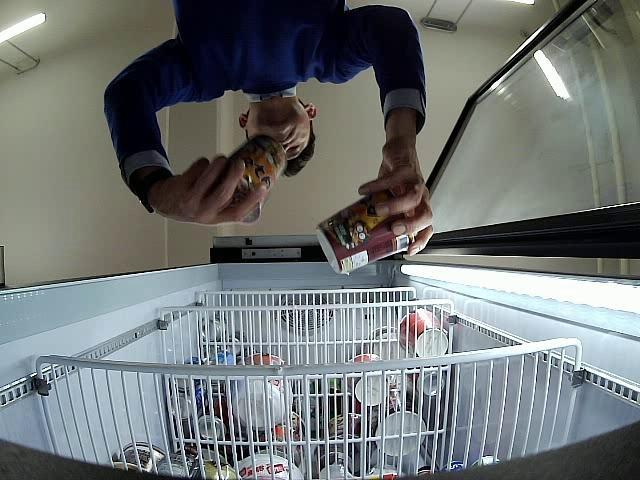06_nuguri_S: (316, 189, 414, 274), (227, 134, 287, 222)
